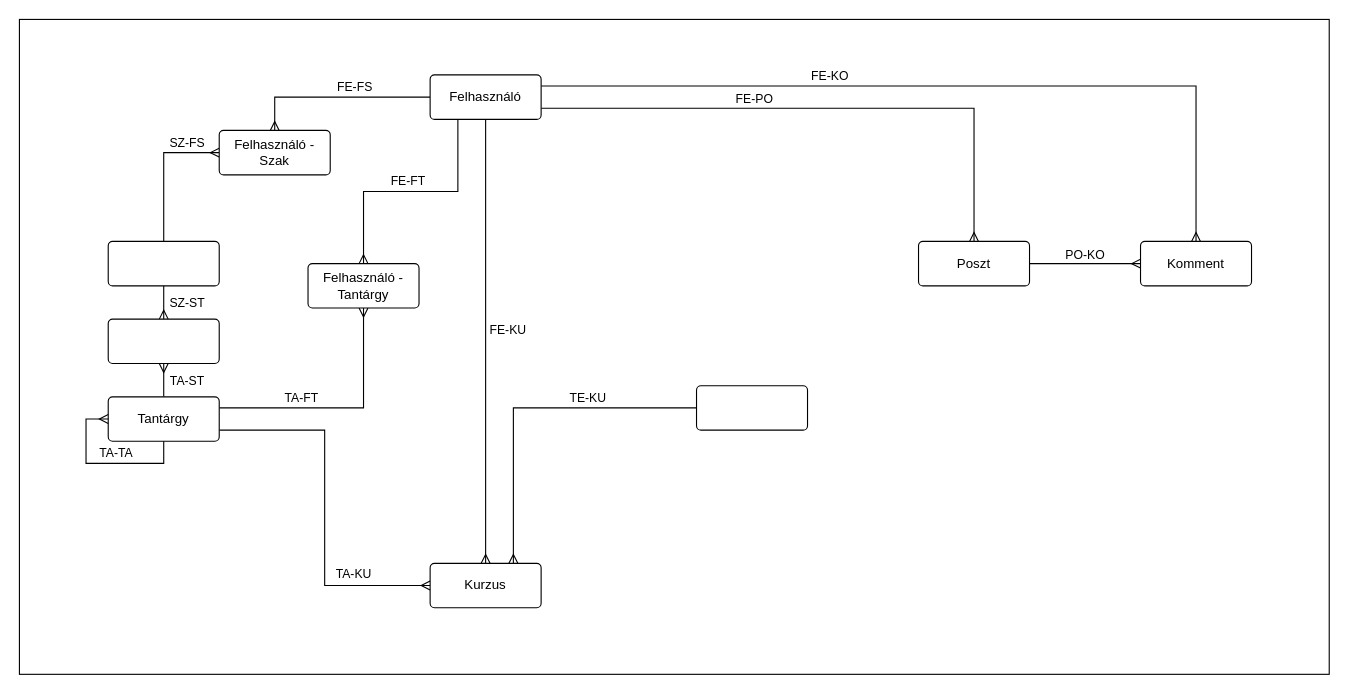
This 1349x694 diagram has some shape labels left out. The shapes that lost their labels are listed below. From the top down, each one's centre as x and y in pixels, then its label:
(x=163, y=263): Szak
(x=163, y=341): Szak - Tantárgy
(x=751, y=407): Terem
